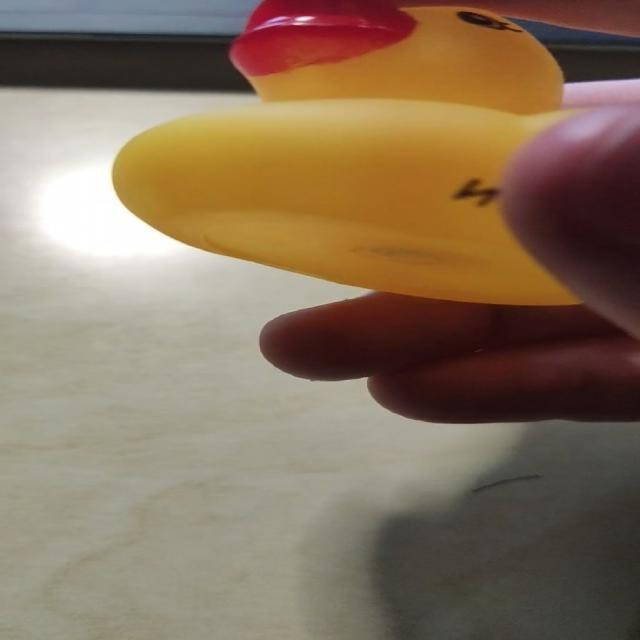rubber-duck: (112, 0, 638, 303)
